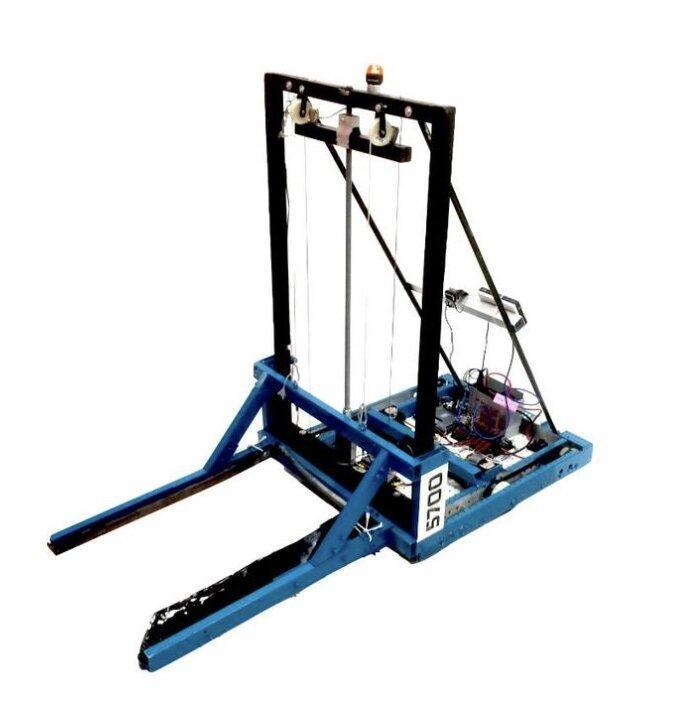robot: (33, 49, 595, 678)
